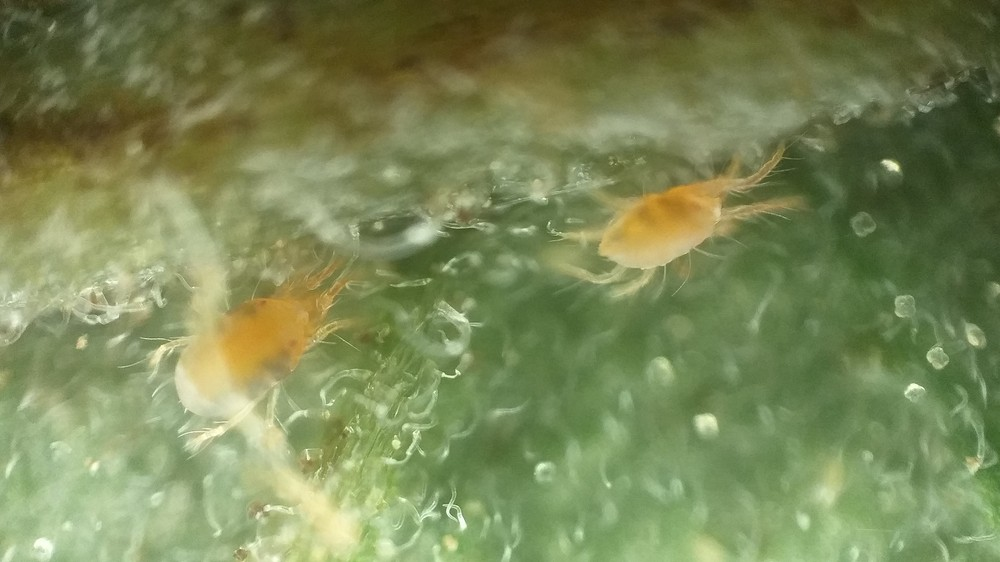Aracnido Rojo: (140, 239, 381, 454), (542, 144, 821, 305)
